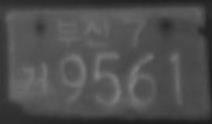1: (162, 50, 191, 106)
5: (92, 53, 121, 108)
6: (126, 53, 159, 107)
7: (122, 16, 150, 48)
9: (59, 53, 87, 104)
거: (22, 61, 48, 98)
부산_O: (56, 18, 113, 49)
